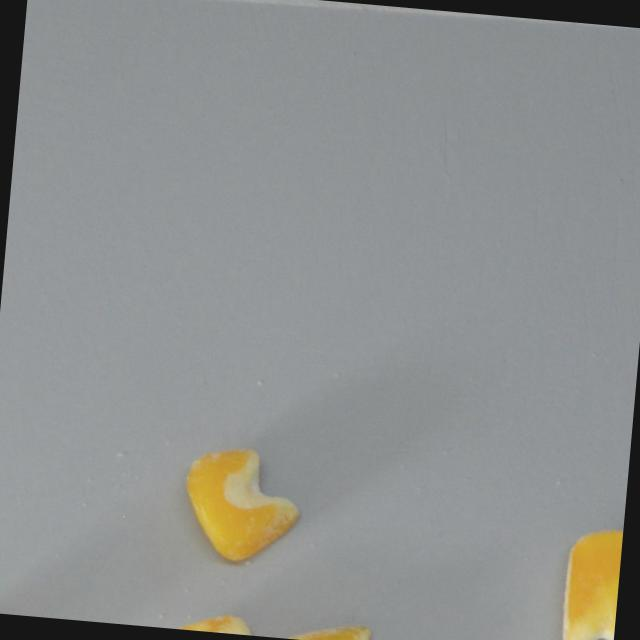no_canjicado: (558, 522, 623, 640), (172, 608, 270, 637)
pelicula: (178, 442, 306, 566), (273, 615, 396, 640)
